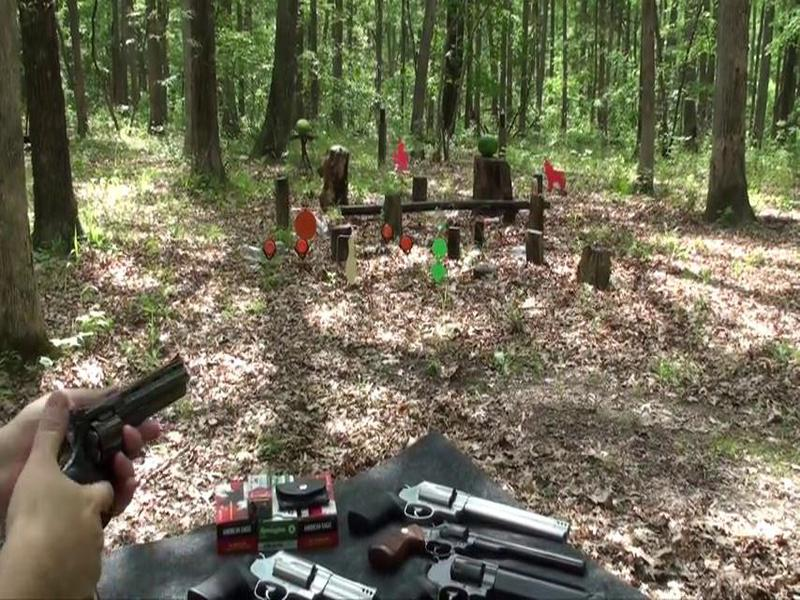Revolver: (47, 348, 195, 552)
